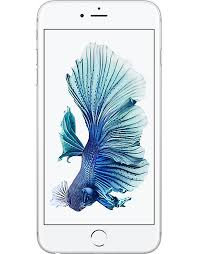iphone: (34, 1, 165, 254)
iphone6: (34, 1, 165, 254)
